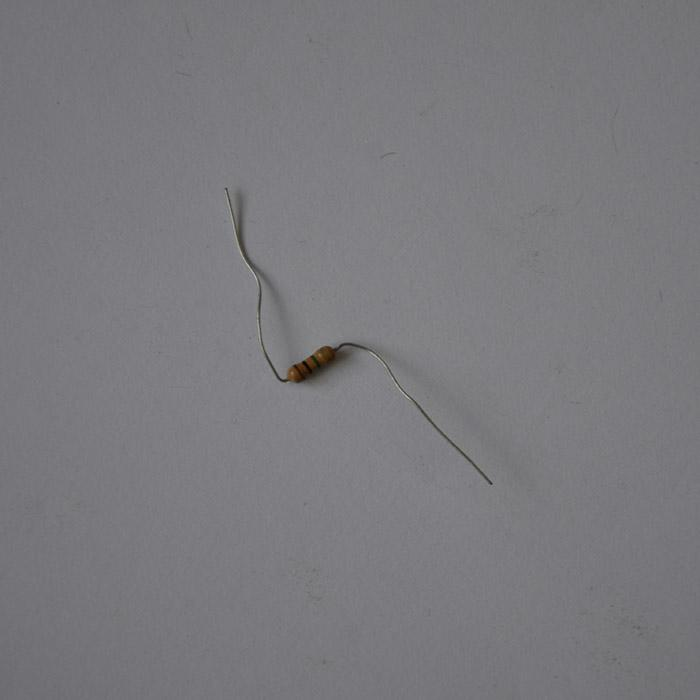resistor: (285, 344, 334, 383)
